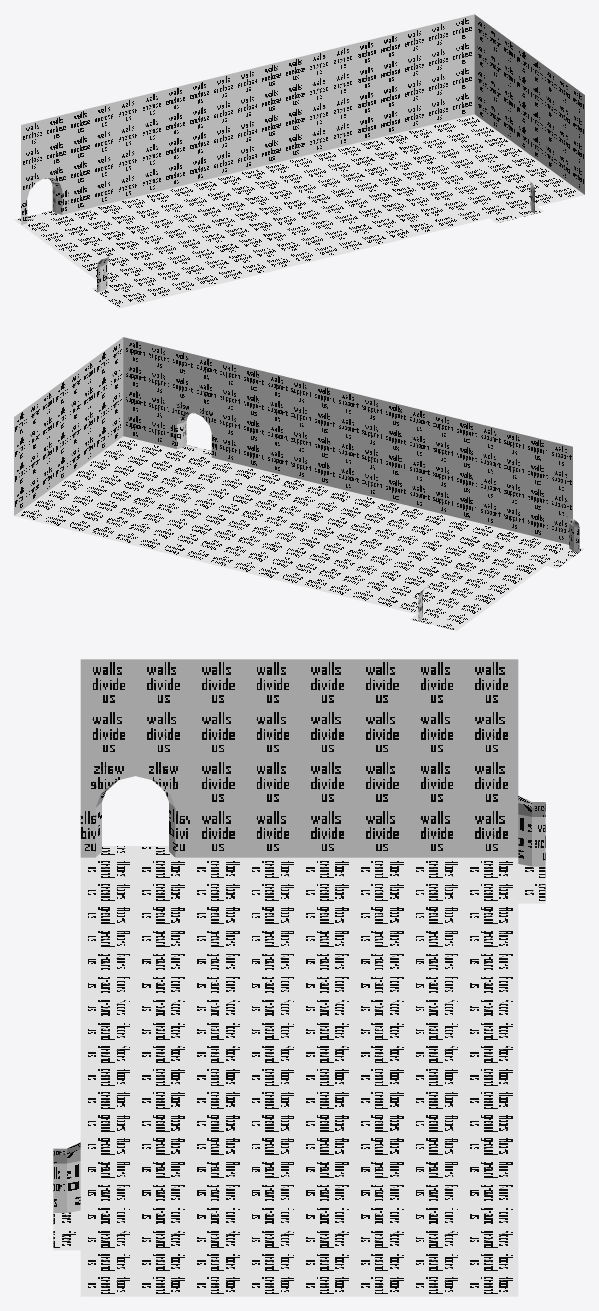
Rendered from Room3.5.5.glb.
The picture shows the model from 3 angles, top to bottom: view 1: azimuth 30°, elevation 25°; view 2: azimuth 150°, elevation 25°; view 3: azimuth 270°, elevation 25°; orthographic projection. The views are drawn at different scales.
Visible parts, largest first — view 1: Floor, WallEast, WallSouth; view 2: Floor, WallWest, WallSouth; view 3: Floor, WallNorth, WallWest, WallEast.
Boxes of the visible parts, x1,y1,x2,y2 form: Floor: (14,114,584,308); WallEast: (21,14,474,224); WallSouth: (474,14,584,194); Floor: (14,436,584,630); WallWest: (123,337,572,544); WallSouth: (14,337,123,515); Floor: (53,846,545,1296); WallNorth: (80,659,518,857); WallWest: (53,1142,80,1212); WallEast: (518,796,545,866).
Bounding box in the file's own units: 19.5 × 4 × 9.
Materials: 6 (6 with a texture image).
